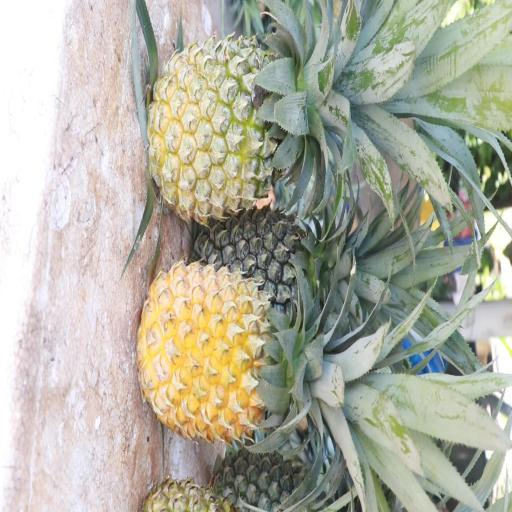------------------------------: (150, 30, 313, 211)
Pineapple - v8 v1: (140, 267, 314, 440)
